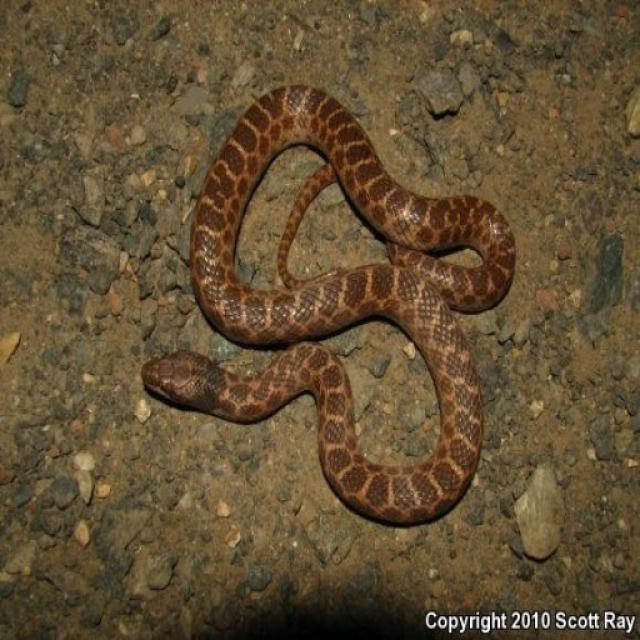snake: (139, 62, 565, 538)
